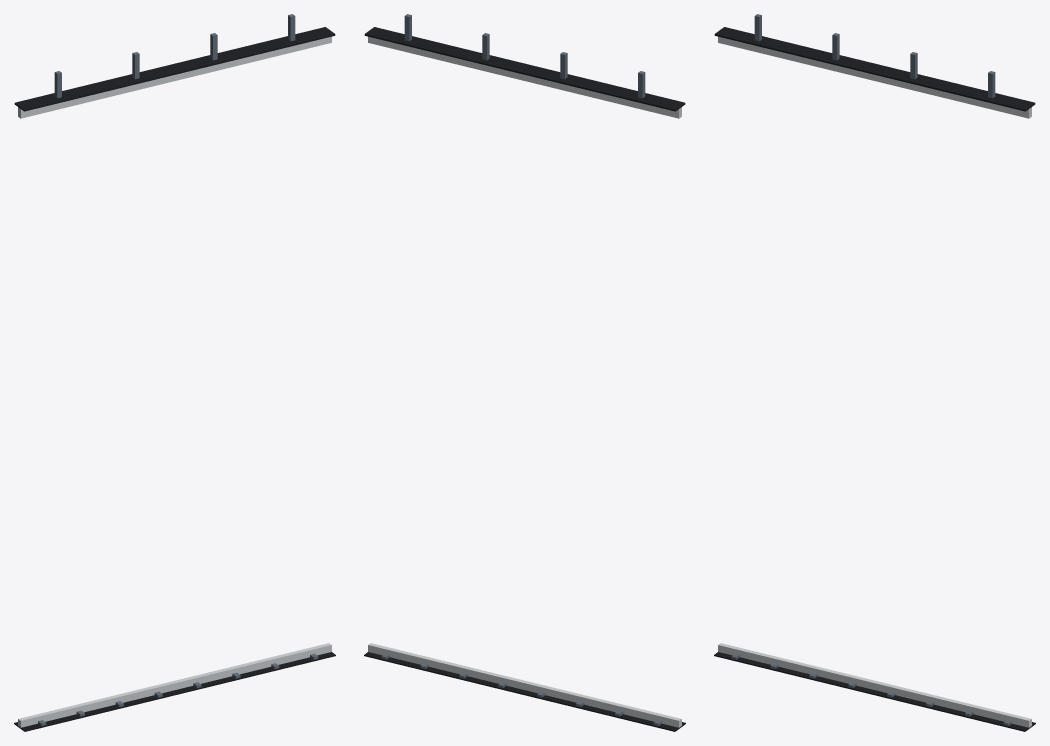
Rendered from asrs_rail_4m.glb.
The picture shows the model from 3 angles, left to right: view 1: azimuth 30°, elevation 25°; view 2: azimuth 150°, elevation 25°; view 3: azimuth 330°, elevation 25°; orthographic projection.
Parts seen in each view (by area): view 1: Rail_Top_black_paint, Rail_Floor_steel_bright, Rail_Top_steel_bright, Rail_Floor_black_paint, Rail_Top_alu_dark; view 2: Rail_Top_black_paint, Rail_Floor_steel_bright, Rail_Top_steel_bright, Rail_Floor_black_paint, Rail_Top_alu_dark; view 3: Rail_Top_black_paint, Rail_Floor_steel_bright, Rail_Top_steel_bright, Rail_Floor_black_paint, Rail_Top_alu_dark.
Part boxes in pixels (<box>): Rail_Top_black_paint: <box>14,27,335,111</box>; Rail_Floor_steel_bright: <box>18,643,331,727</box>; Rail_Top_steel_bright: <box>18,36,331,118</box>; Rail_Floor_black_paint: <box>14,652,335,731</box>; Rail_Top_alu_dark: <box>54,14,295,98</box>; Rail_Top_black_paint: <box>364,27,685,111</box>; Rail_Floor_steel_bright: <box>368,643,681,727</box>; Rail_Top_steel_bright: <box>368,36,681,118</box>; Rail_Floor_black_paint: <box>364,652,685,731</box>; Rail_Top_alu_dark: <box>404,14,645,98</box>; Rail_Top_black_paint: <box>714,27,1035,111</box>; Rail_Floor_steel_bright: <box>718,643,1031,727</box>; Rail_Top_steel_bright: <box>718,36,1031,118</box>; Rail_Floor_black_paint: <box>714,652,1035,731</box>; Rail_Top_alu_dark: <box>754,14,995,98</box>.
Size of the model in its own units: 4 by 7.94 by 0.24.
